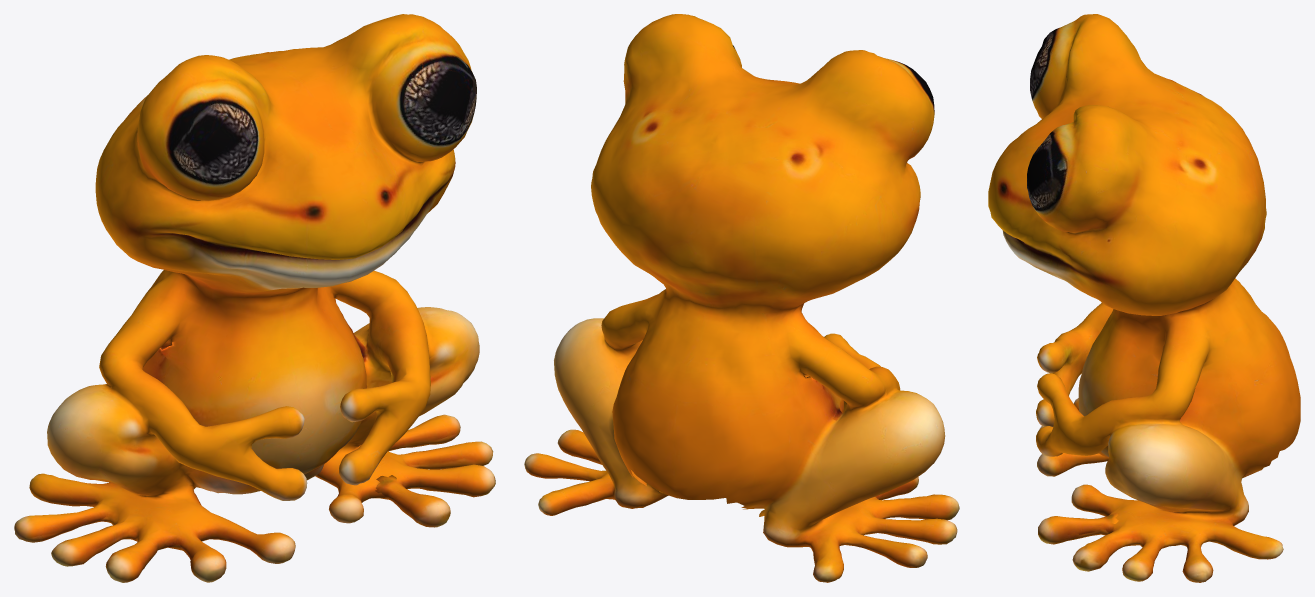
Rendered from frog_orange_cursed_v1.glb.
3 renders of one model, left to right at view 1: azimuth 30°, elevation 25°; view 2: azimuth 150°, elevation 25°; view 3: azimuth 270°, elevation 25°, orthographic. The views are drawn at different scales.
Size of the model in its own units: 1.77 by 1.9 by 1.23.
1 material, 1 textured.
